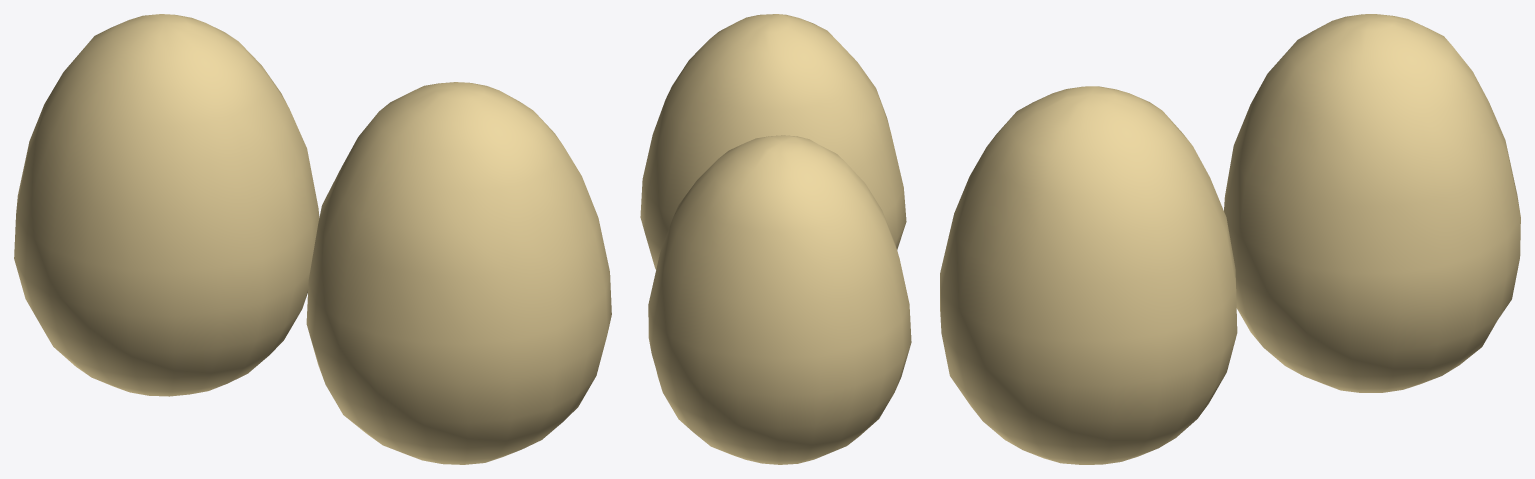
Rendered from Eggs.fbx.
The picture shows the model from 3 angles, left to right: view 1: azimuth 30°, elevation 25°; view 2: azimuth 150°, elevation 25°; view 3: azimuth 270°, elevation 25°; orthographic projection. The views are drawn at different scales.
Parts seen in each view (by area): view 1: Sphere.001, Sphere; view 2: Sphere, Sphere.001; view 3: Sphere.001, Sphere.
Boxes of the visible parts, bbox=[...] form: Sphere.001: bbox=[306, 82, 611, 464]; Sphere: bbox=[14, 14, 319, 396]; Sphere: bbox=[648, 135, 911, 464]; Sphere.001: bbox=[640, 14, 906, 269]; Sphere.001: bbox=[940, 86, 1237, 464]; Sphere: bbox=[1224, 14, 1520, 392].
Bounding box in the file's own units: 298 × 247 × 366.
